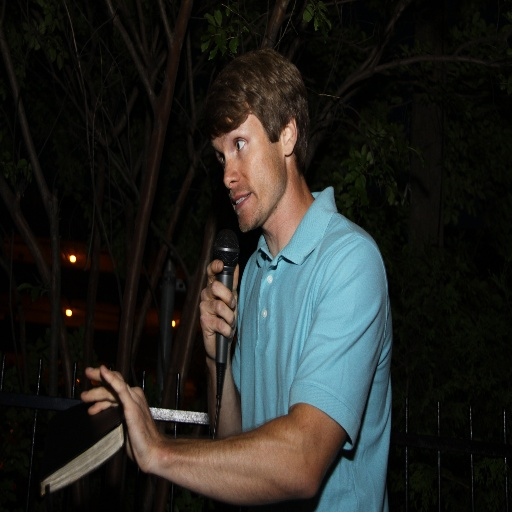hand: (79, 369, 170, 458), (199, 258, 237, 361)
